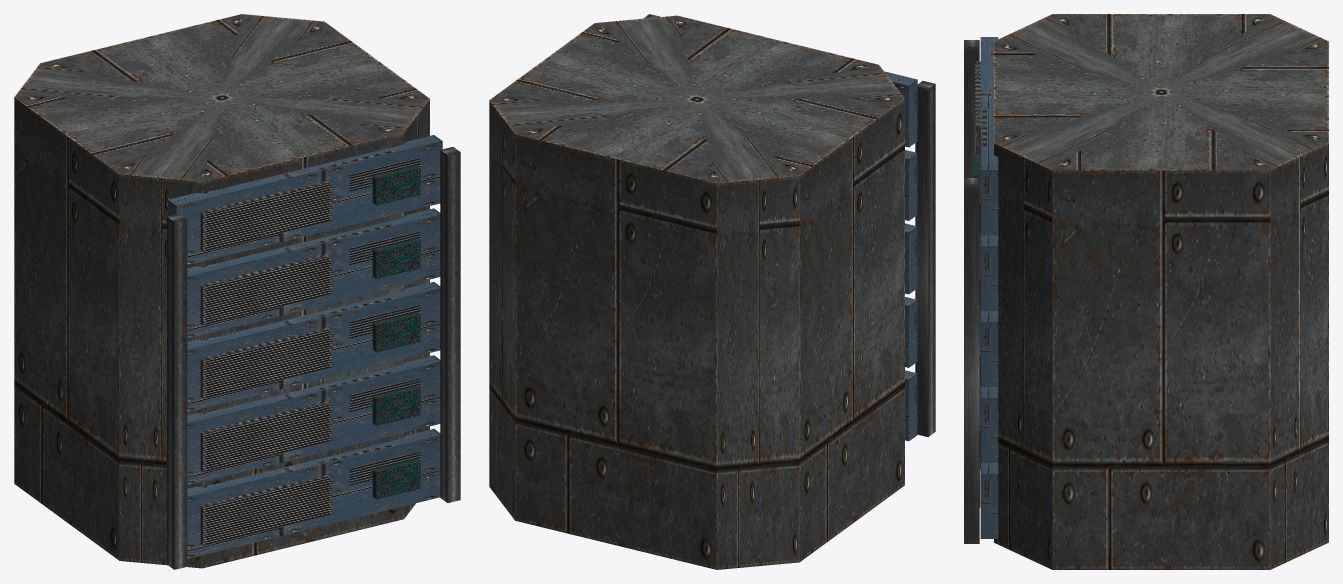
File: server-rack.obj
The picture shows the model from 3 angles, left to right: view 1: azimuth 30°, elevation 25°; view 2: azimuth 150°, elevation 25°; view 3: azimuth 270°, elevation 25°; orthographic projection. The views are drawn at different scales.
Visible parts, largest first — view 1: server-rack; view 2: server-rack; view 3: server-rack.
Part boxes in pixels (x1,y1,x2,y2): server-rack: (14, 14, 460, 569); server-rack: (489, 14, 935, 569); server-rack: (964, 14, 1328, 569).
Size of the model in its own units: 0.84 by 1 by 0.8275.
Materials: 2 (2 with a texture image).
